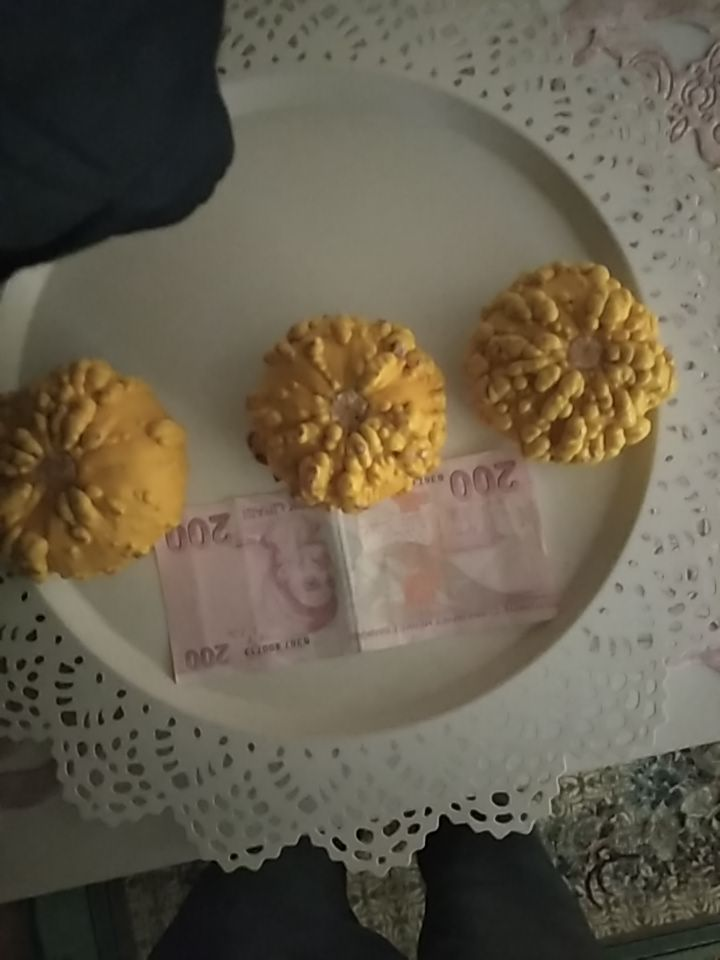200TL: (149, 445, 565, 686)
